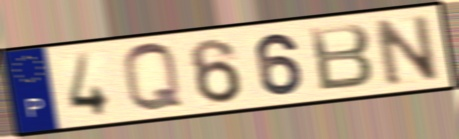4: (65, 49, 115, 119)
6: (187, 36, 244, 105), (252, 30, 307, 98)
B: (306, 21, 377, 94)
N: (370, 11, 443, 89)
Q: (119, 40, 188, 116)
